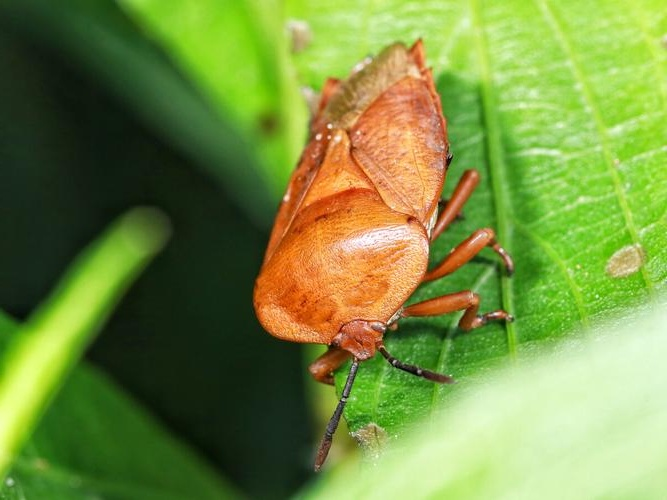Stink_Bug: (250, 52, 482, 373)
